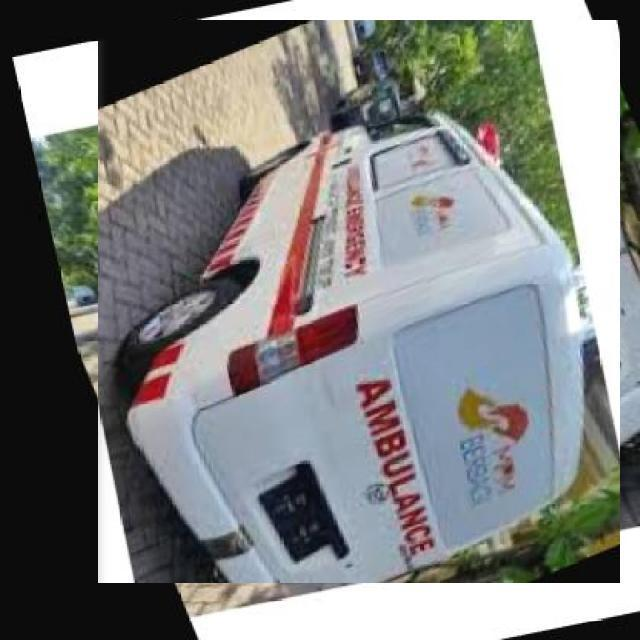emergency-vehicle: (87, 30, 630, 573)
